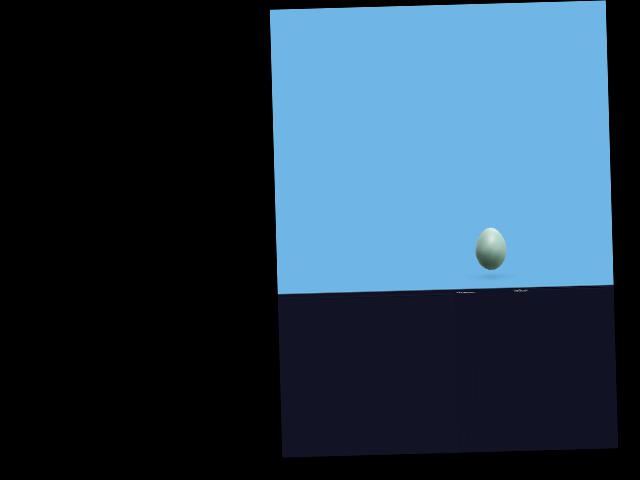egg: (474, 227, 506, 269)
